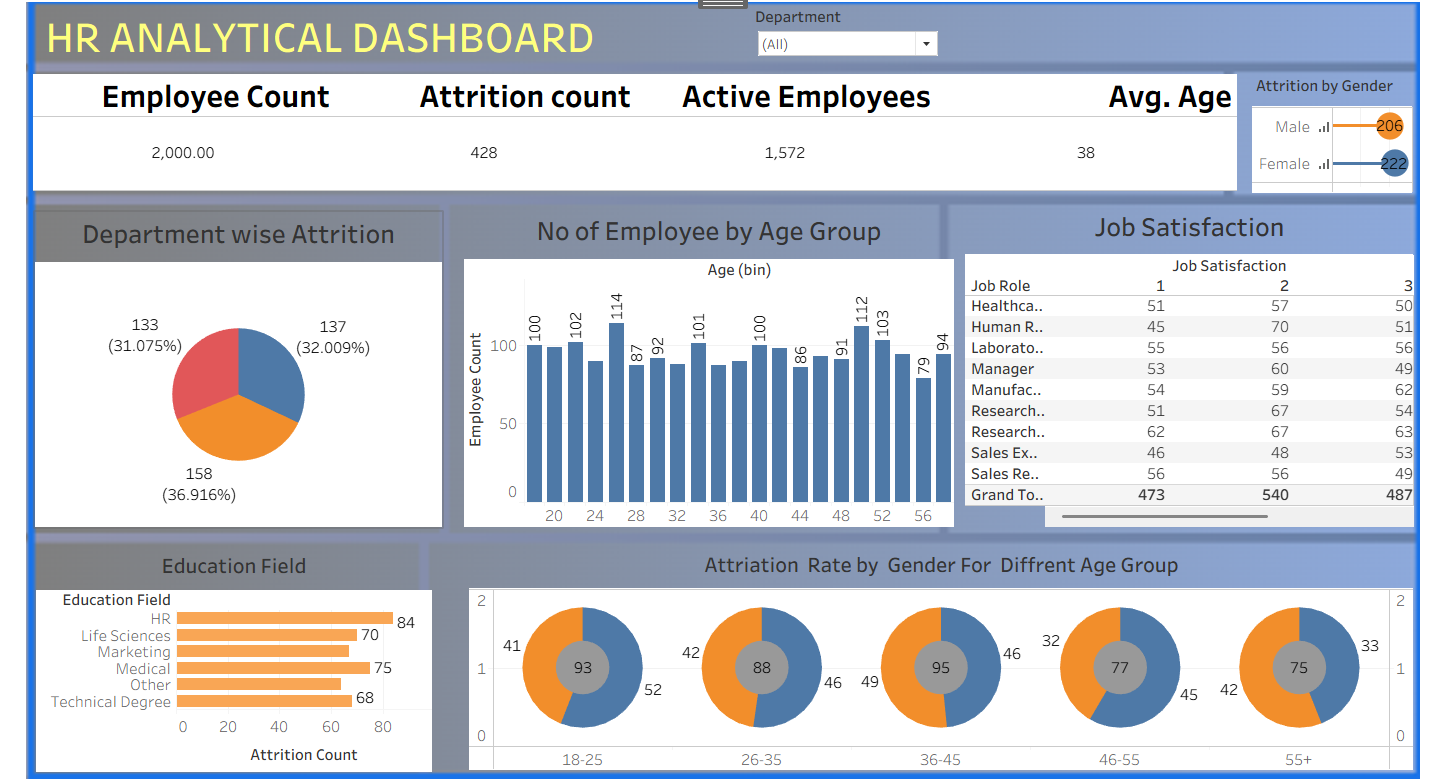

Layout of this report page (visuals, bound fields, positions):
{"tool":"tableau","page":{"name":"HR Analytical ","canvas":[1000,1000],"units":"permille","ordinal":0},"visuals":[{"type":"image","param":"Image/Screenshot 2025-12-29 112903.png","box":[4.8,10,875.7,980]},{"type":"text","box":[880.5,10,114.7,22.5]},{"type":"filter","title":"Department wise Attrition","param":"[federated.1fwldyr0yn9utu10q0tld0hfszro].[none:Department:nk]","box":[462,20,112.3,68.7]},{"type":"text","box":[31.2,23.7,406.8,67.4]},{"type":"worksheet","title":"Attrition by Gender","mark":"Automatic","rows":["Gender"],"cols":["Calculation_910008621724995584","Calculation_910008621724995584"],"box":[761.6,101.1,97.2,152.3]},{"type":"worksheet","title":"KPI","mark":"Automatic","box":[25.9,104.9,726.6,146.1]},{"type":"worksheet","title":"Job Satisfaction","mark":"Automatic","rows":["Job Role"],"cols":["Job Satisfaction"],"box":[588.4,268.4,271,404.5]},{"type":"worksheet","title":"No of Employee by Age Group","mark":"Automatic","rows":["Employee Count"],"cols":["Age (bin)"],"box":[285.9,273.4,295.7,397]},{"type":"worksheet","title":"Department wise Attrition","mark":"Pie","box":[27.2,277.2,245.6,393.3]},{"type":"worksheet","title":"Attriation  Rate by  Gender For  Diffrent Age Group","mark":"Pie","rows":["Calculation_1138847778874363906","Calculation_1138847778874425348"],"cols":["CF_age band"],"box":[289.1,694.1,570.3,279.7]},{"type":"worksheet","title":"Education Field","mark":"Automatic","rows":["Education Field"],"cols":["Calculation_910008621724995584"],"box":[27.8,695.4,239,280.9]}]}

Visuals, with their boxes on the dashboard's canvas, which has no fixed pixel size, in thousandths of its width and height (x1, y1, x2, y2). These are canvas units, not pixel positions in the 1434x781 screenshot, which may show the page scaled, cropped or inside an application window:
image: crop(5, 10, 880, 990)
text: crop(880, 10, 995, 32)
"Department wise Attrition" filter: crop(462, 20, 574, 89)
text: crop(31, 24, 438, 91)
"Attrition by Gender" worksheet: crop(762, 101, 859, 253)
"KPI" worksheet: crop(26, 105, 752, 251)
"Job Satisfaction" worksheet: crop(588, 268, 859, 673)
"No of Employee by Age Group" worksheet: crop(286, 273, 582, 670)
"Department wise Attrition" worksheet (Pie marks): crop(27, 277, 273, 670)
"Attriation  Rate by  Gender For  Diffrent Age Group" worksheet (Pie marks): crop(289, 694, 859, 974)
"Education Field" worksheet: crop(28, 695, 267, 976)
